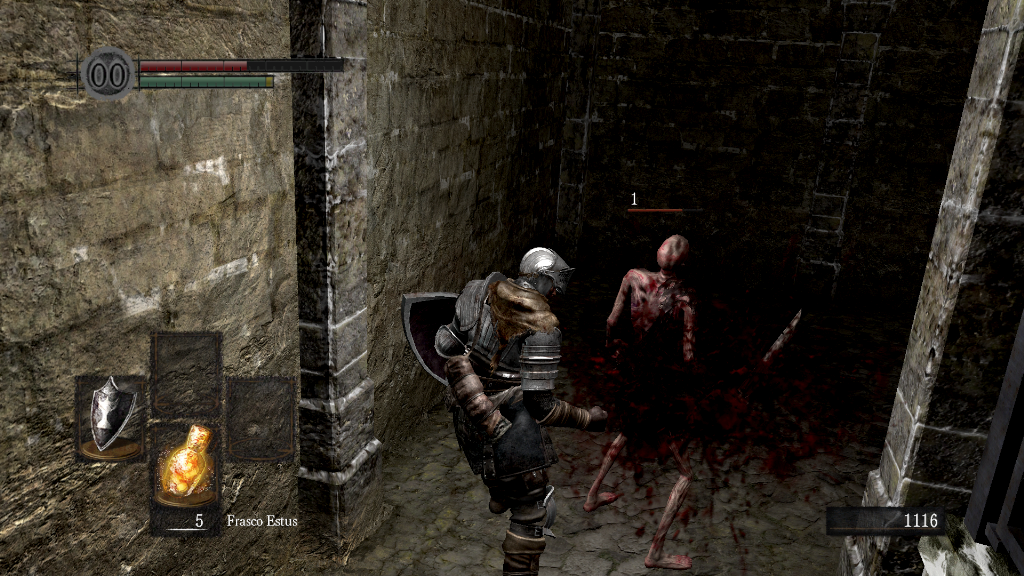health: (138, 58, 343, 71)
hollow: (584, 235, 713, 576)
humanity: (80, 45, 136, 102)
player: (403, 247, 608, 576)
souls: (825, 506, 945, 536)
stamina: (138, 74, 274, 88)
